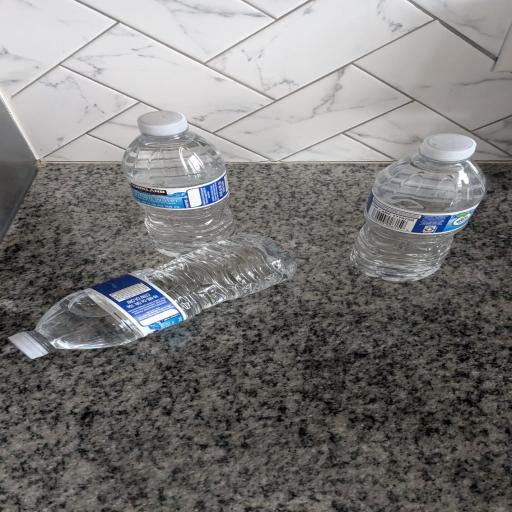waterbottle: (10, 236, 296, 358), (351, 134, 486, 281), (122, 112, 234, 256)
